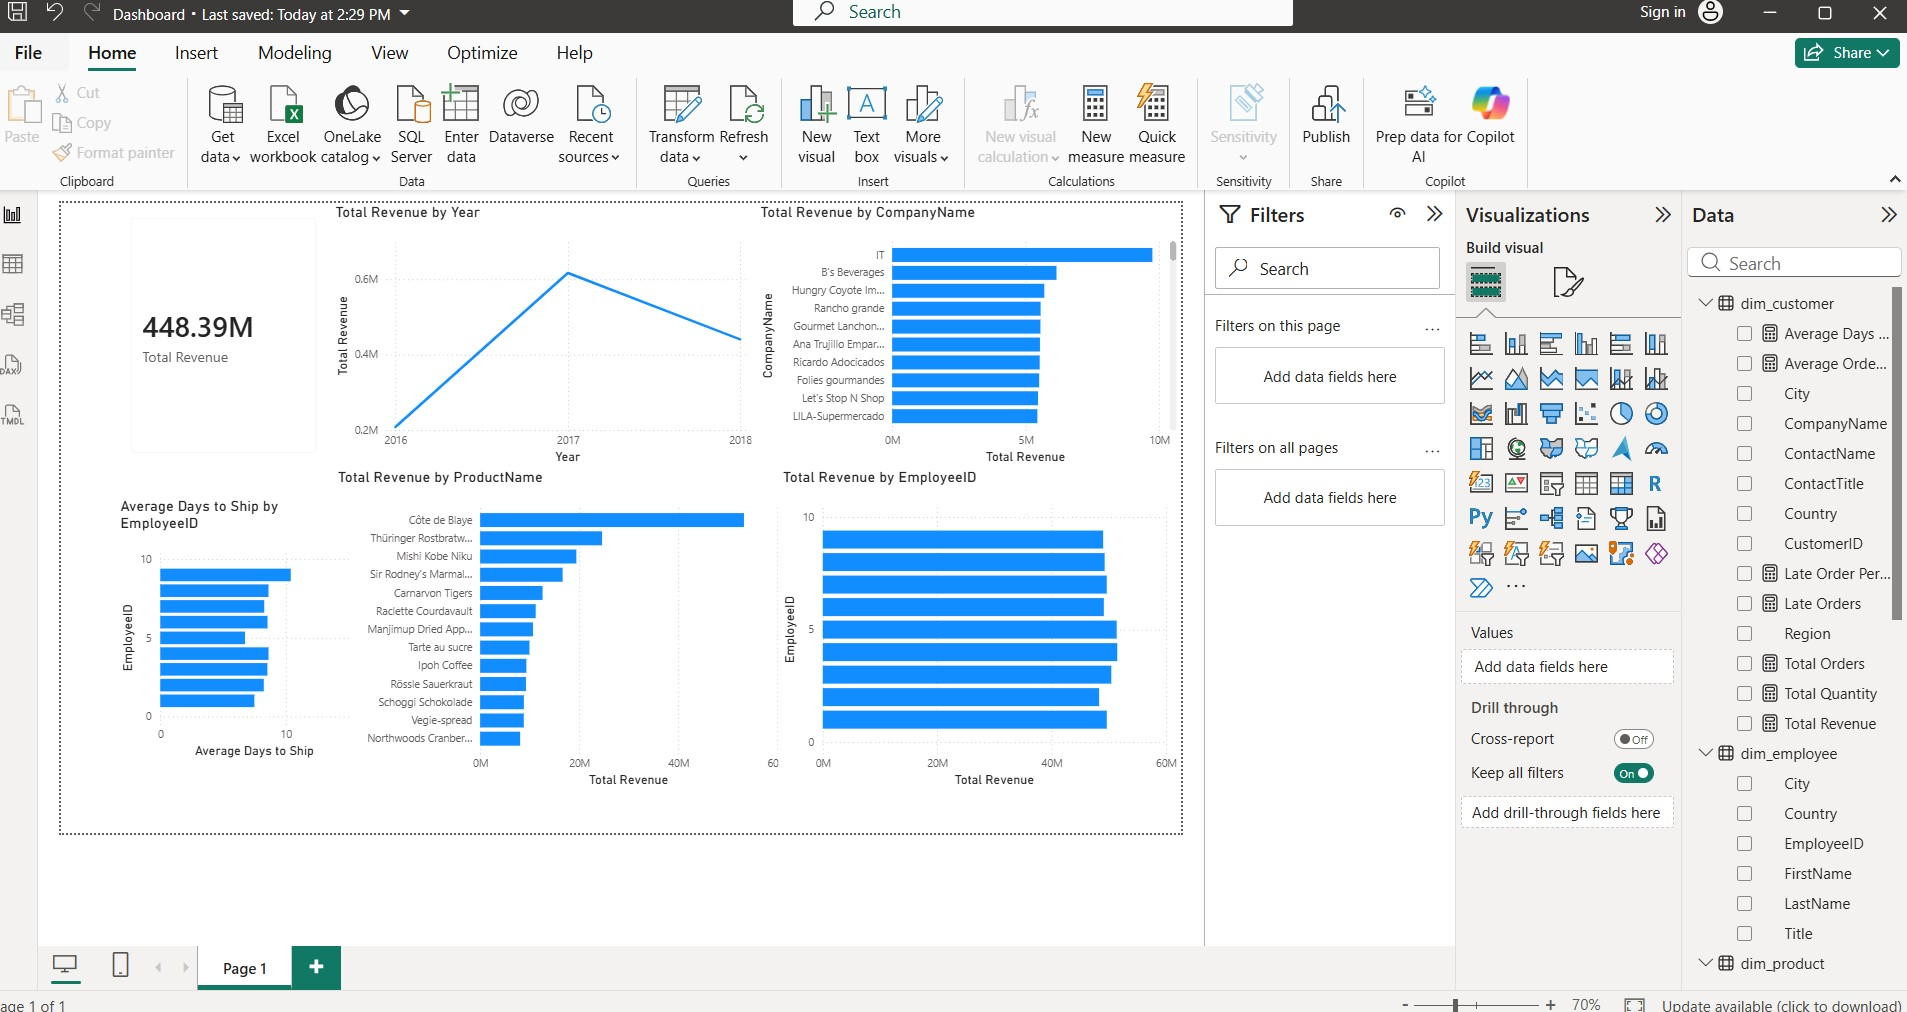

What the dashboard file says about the page in this screenshot:
{"tool":"powerbi","page":{"name":"Page 1","canvas":[1280,720],"ordinal":0},"visuals":[{"type":"lineChart","fields":{"Category":["fact_sales.OrderDate.Variation.Date Hierarchy.Year","fact_sales.OrderDate.Variation.Date Hierarchy.Quarter","fact_sales.OrderDate.Variation.Date Hierarchy.Month","fact_sales.OrderDate.Variation.Date Hierarchy.Day"],"Y":["dim_customer.Total Revenue"]},"box":[308.6,0,485.8,303.3],"z":0},{"type":"barChart","fields":{"Category":["dim_product.ProductName"],"Y":["dim_customer.Total Revenue"]},"box":[311.4,302.9,532.4,369.1],"z":1000},{"type":"barChart","fields":{"Category":["dim_customer.CompanyName"],"Y":["dim_customer.Total Revenue"]},"box":[794.3,0,486,303],"z":2000},{"type":"barChart","fields":{"Category":["dim_employee.EmployeeID"],"Y":["dim_customer.Total Revenue"]},"box":[820,302.9,460,369],"z":3000},{"type":"clusteredBarChart","fields":{"Category":["dim_employee.EmployeeID"],"Y":["dim_customer.Average Days to Ship"]},"box":[62.9,335.7,278,303],"z":4000},{"type":"cardVisual","fields":{"Data":["dim_customer.Total Revenue"]},"box":[63,0,246,303],"z":4001}]}

Visuals, with their boxes on the page's 1280x720 design canvas (x1, y1, x2, y2). These are canvas units, not pixel positions in the 1907x1012 screenshot, which may show the page scaled, cropped or inside an application window:
lineChart - fact_sales.OrderDate.Variation.Date Hierarchy.Year x fact_sales.OrderDate.Variation.Date Hierarchy.Quarter: box=[309, 0, 794, 303]
barChart - dim_product.ProductName x dim_customer.Total Revenue: box=[311, 303, 844, 672]
barChart - dim_customer.CompanyName x dim_customer.Total Revenue: box=[794, 0, 1280, 303]
barChart - dim_employee.EmployeeID x dim_customer.Total Revenue: box=[820, 303, 1280, 672]
clusteredBarChart - dim_employee.EmployeeID x dim_customer.Average Days to Ship: box=[63, 336, 341, 639]
cardVisual - dim_customer.Total Revenue: box=[63, 0, 309, 303]
